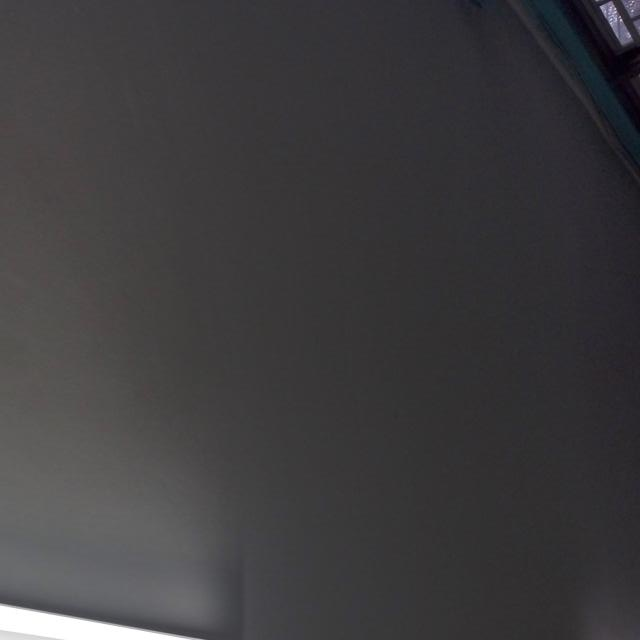fluorescent tube: (0, 410, 308, 640)
